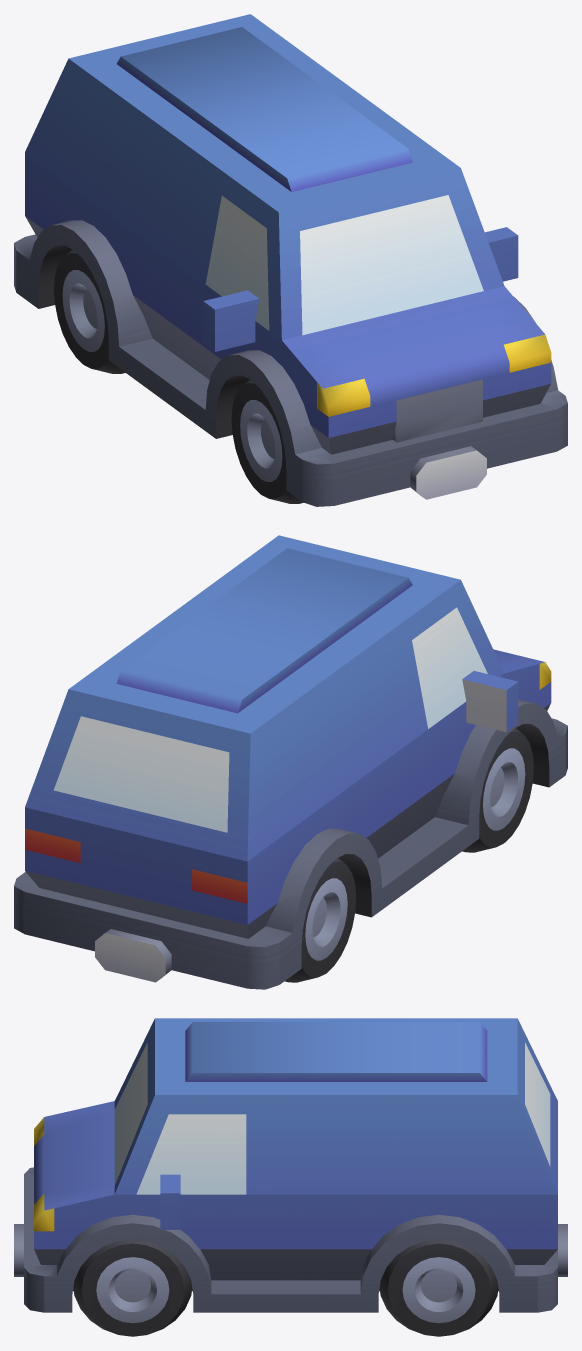
The model's file is van-transformed.glb.
3 renders of one model, top to bottom at view 1: azimuth 30°, elevation 25°; view 2: azimuth 150°, elevation 25°; view 3: azimuth 270°, elevation 25°, orthographic. The views are drawn at different scales.
Parts seen in each view (by area): view 1: body; view 2: body; view 3: body.
Part boxes in pixels (left/top/right/bottom): body: left=14, top=14, right=567, bottom=506; body: left=14, top=535, right=567, bottom=989; body: left=14, top=1018, right=567, bottom=1336.
Bounding box in the file's own units: 1.5 × 1.35 × 2.75.
1 material, 1 textured.
